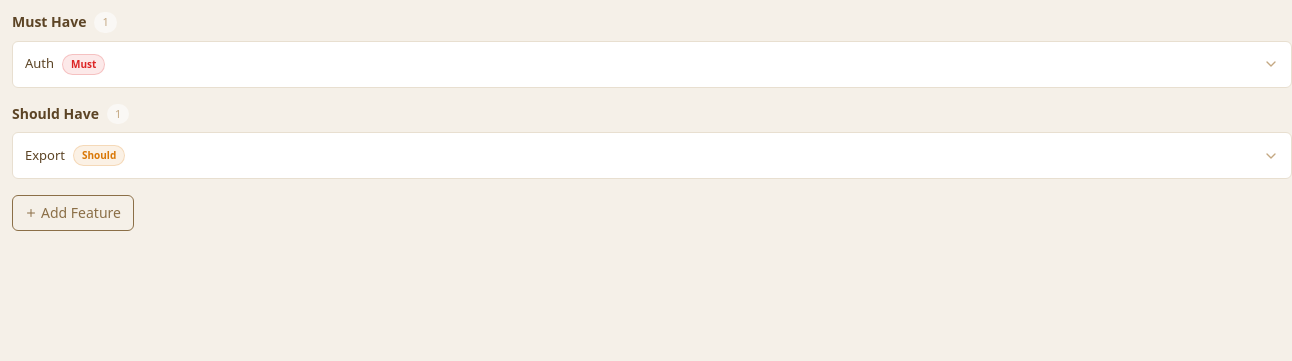
Test case: FeatureList › expands card to show details and criteria
Click the button named "Expand feature details" in the row of "Auth".
click(1271, 64)  # box [1263, 56, 1279, 72]
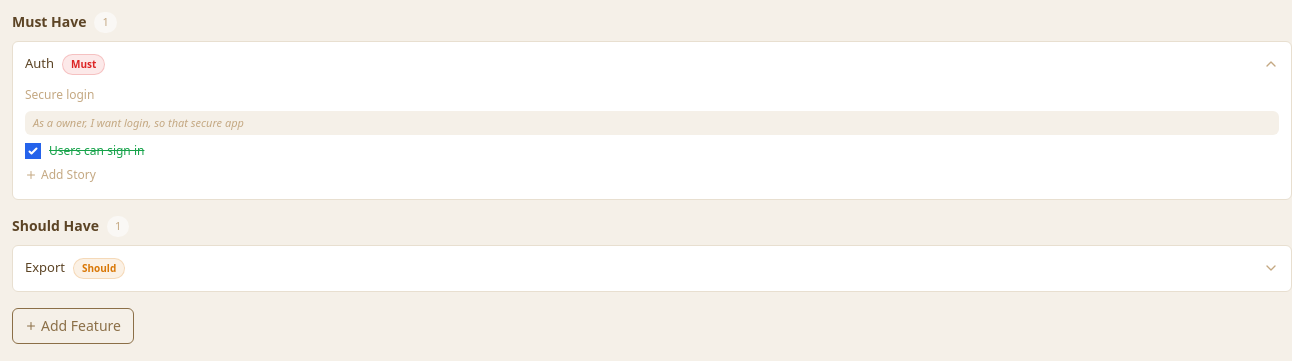
Check: the text box "Secure login" is shown, box [25, 86, 94, 102]
Check: the text "As a owner, I want login, so that secure app" is shown, box [25, 110, 1279, 135]
Check: the text "Users can sign in" is shown, box [49, 143, 144, 159]
